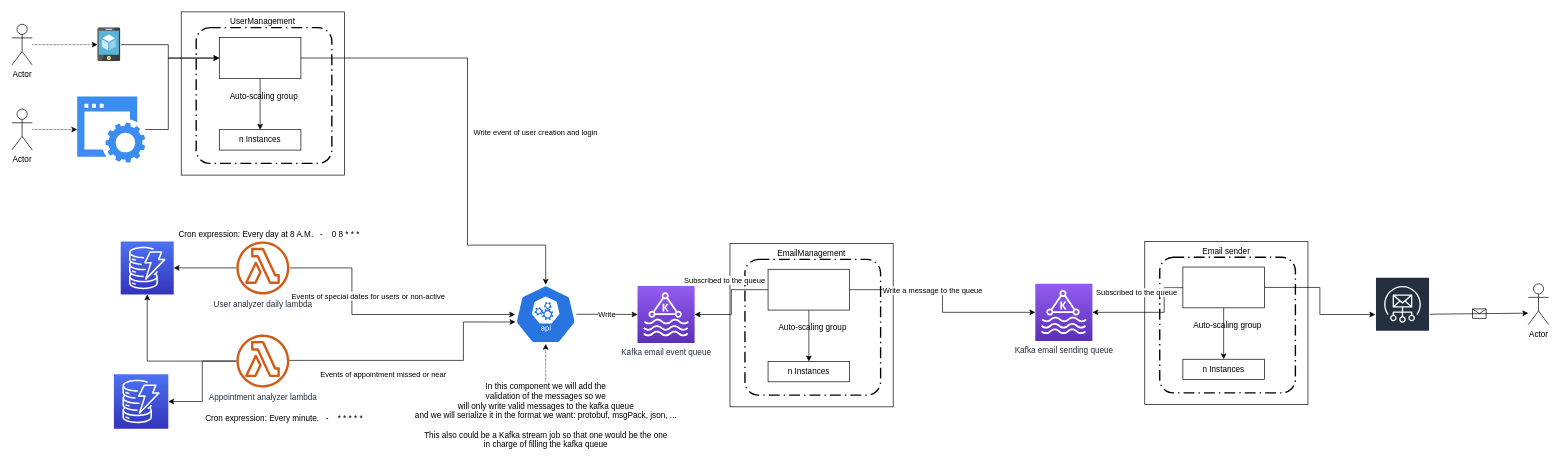
Image size: 1561x462. Some labels were removed from this diagram. The shapes that lost their labels are listed below. From the top down, each one's box as (x1, y1, x2, y2) in pixels, then its label:
(219, 37, 301, 78): UserManagement EC2 instance
(120, 241, 174, 294): Users
(1182, 266, 1264, 308): EmailSender EC2 instance
(767, 269, 850, 310): EmailManagement EC2 instance
(514, 284, 576, 344): EmailEvent Writer
(1375, 276, 1430, 352): Amazon Simple Email Service
(113, 374, 168, 429): Appointments
